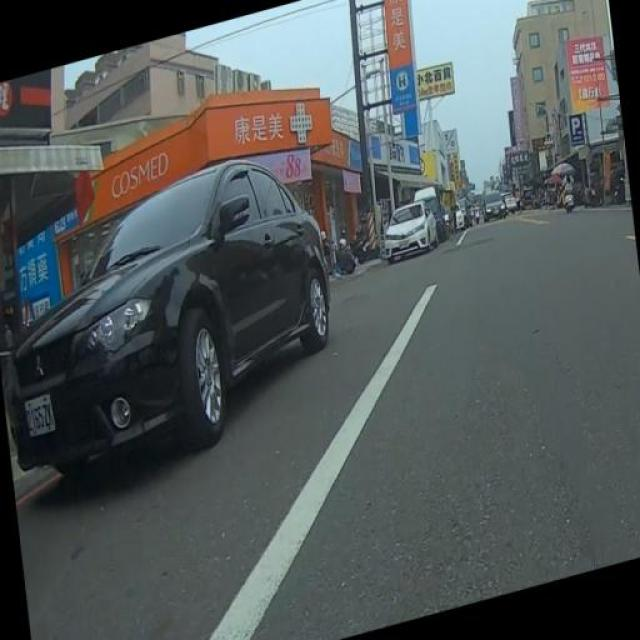Legalparking: (7, 124, 361, 503)
